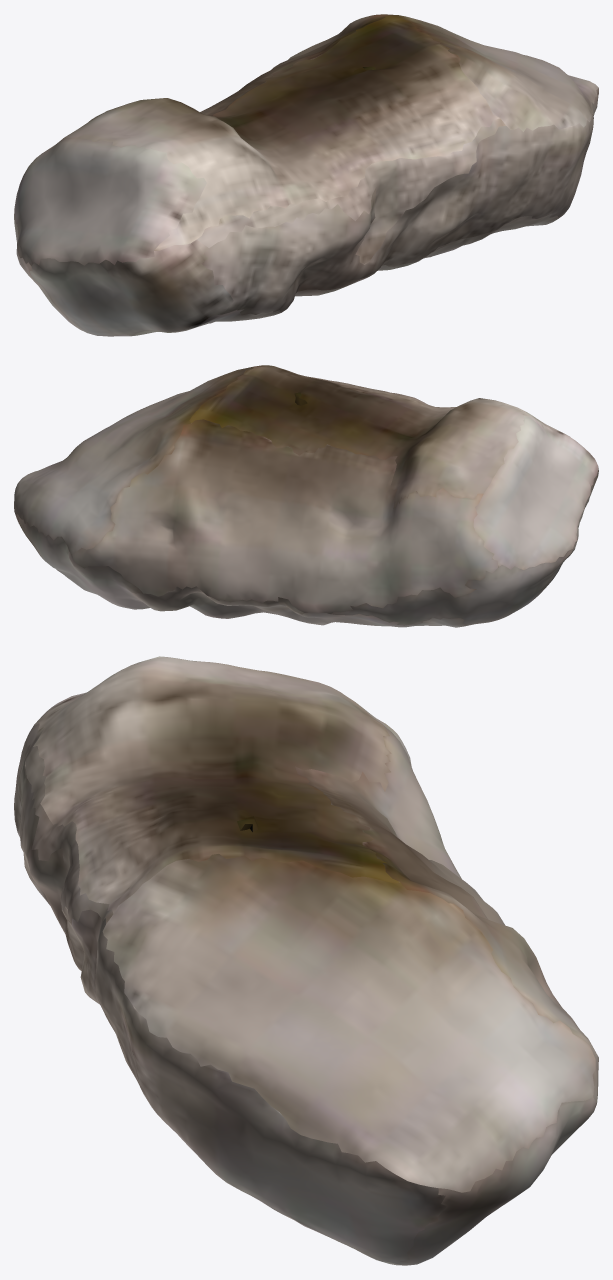
The model's file is 29_runner,_carpet.glb.
The picture shows the model from 3 angles, top to bottom: view 1: azimuth 30°, elevation 25°; view 2: azimuth 150°, elevation 25°; view 3: azimuth 270°, elevation 25°; orthographic projection. The views are drawn at different scales.
Parts seen in each view (by area): view 1: 29_runner,_carpet; view 2: 29_runner,_carpet; view 3: 29_runner,_carpet.
Boxes of the visible parts, <box> form: 29_runner,_carpet: <box>14,14,598,336</box>; 29_runner,_carpet: <box>14,365,598,627</box>; 29_runner,_carpet: <box>14,656,598,1265</box>.
Size of the model in its own units: 3.75 by 1.42 by 2.32.
Materials: 1 (1 with a texture image).
